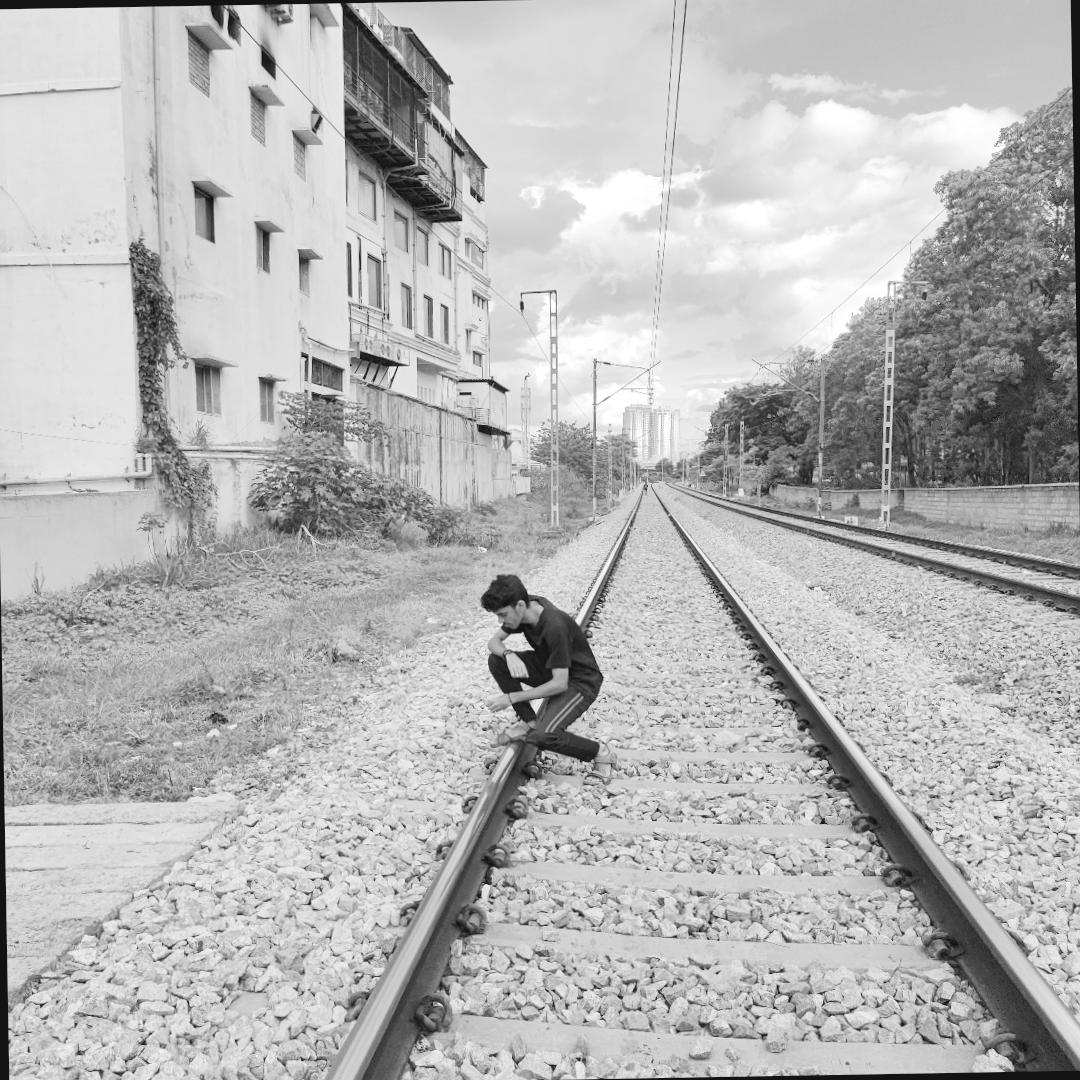sitting: (465, 568, 622, 804)
